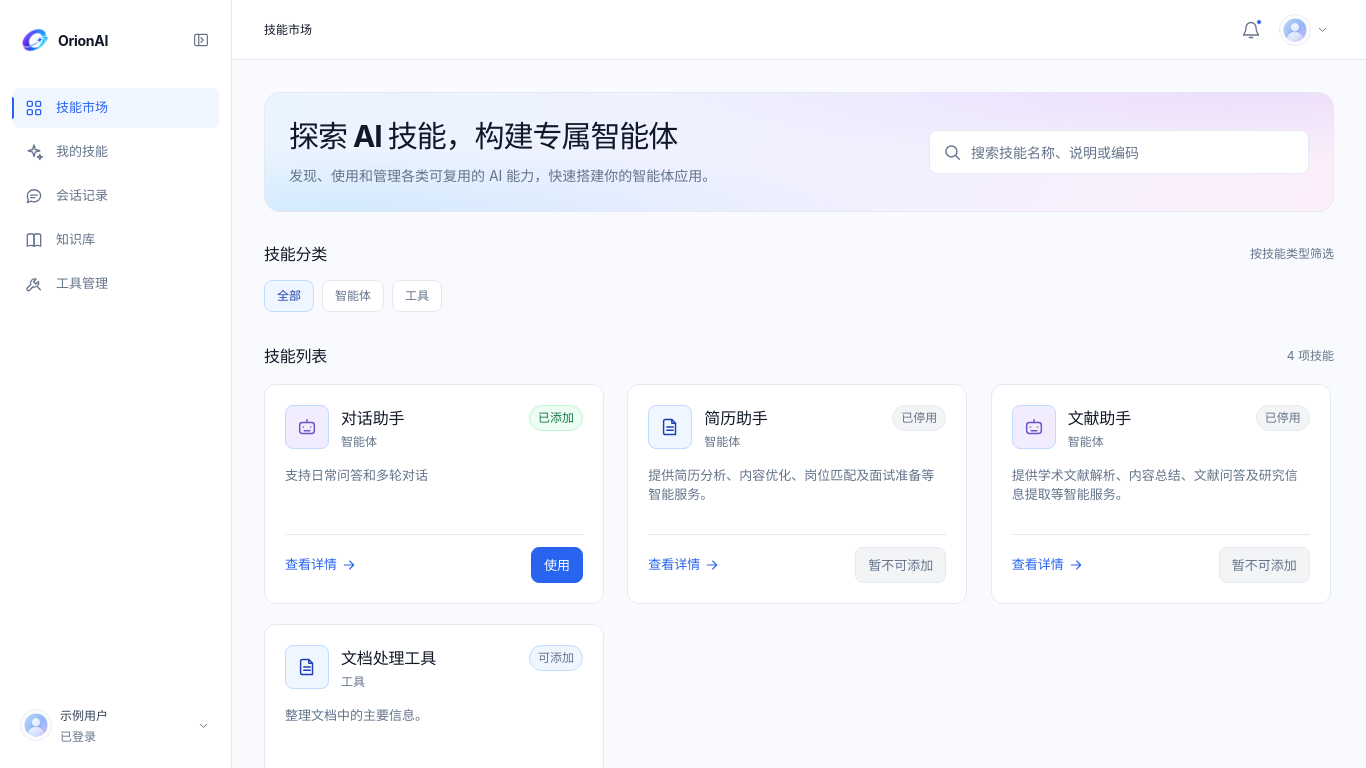
Test case: OrionAI platform › opens and closes skill details
Click the button with aria-label "查看 文献助手 详情": (1048, 565) [1012,547,1084,583]
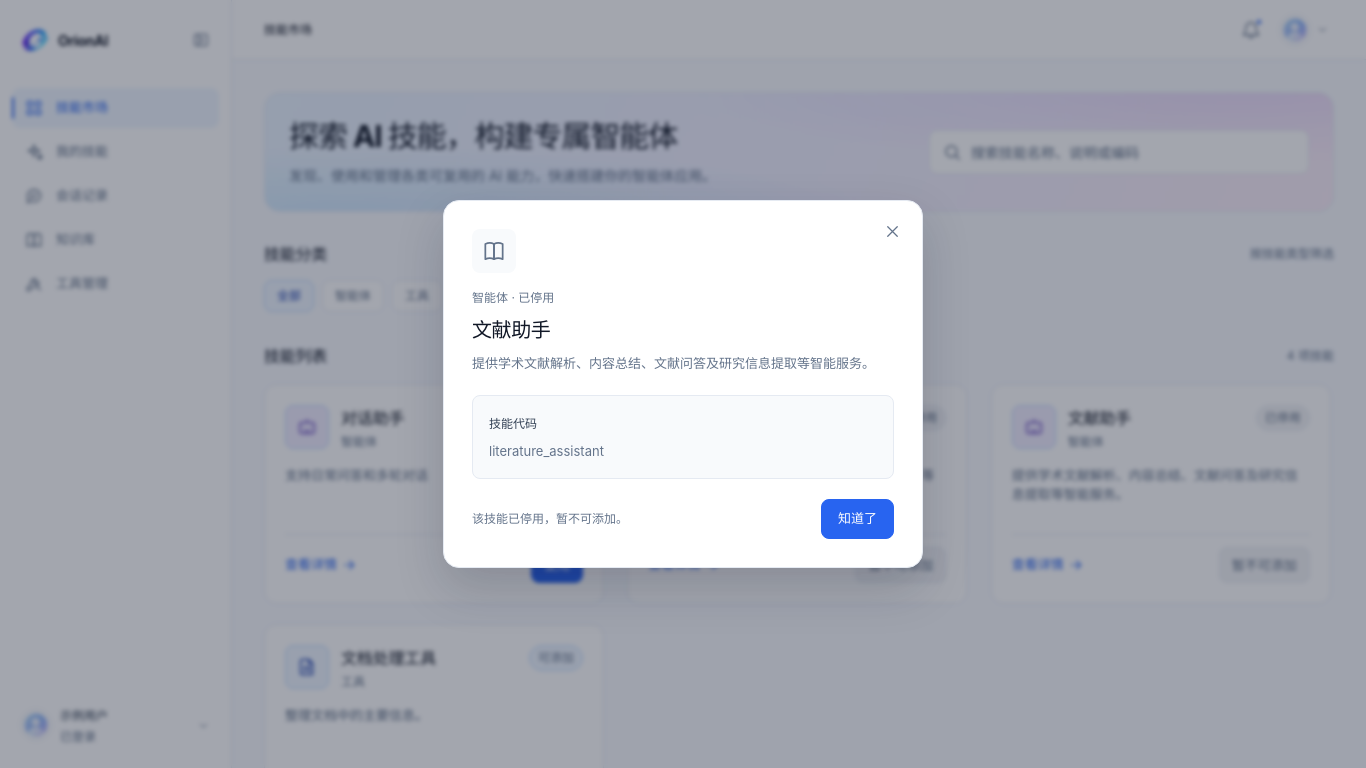
Expected: the dialog "文献助手" is shown, [443,200,923,568]
Expected: the text "该技能已停用，暂不可添加。" is shown, [472,510,628,528]
Click the button named "关闭技能详情": (892, 231) [874,213,910,249]
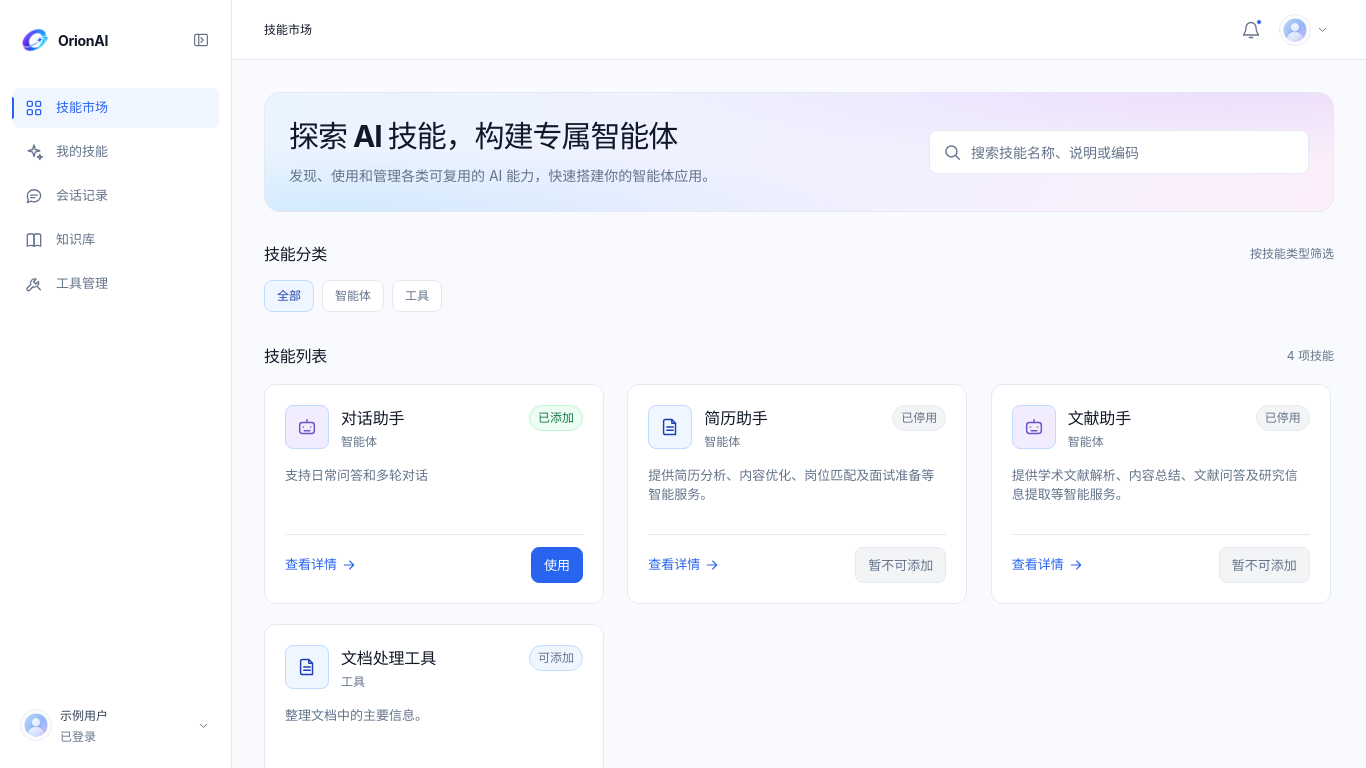
Expected: the dialog is gone
